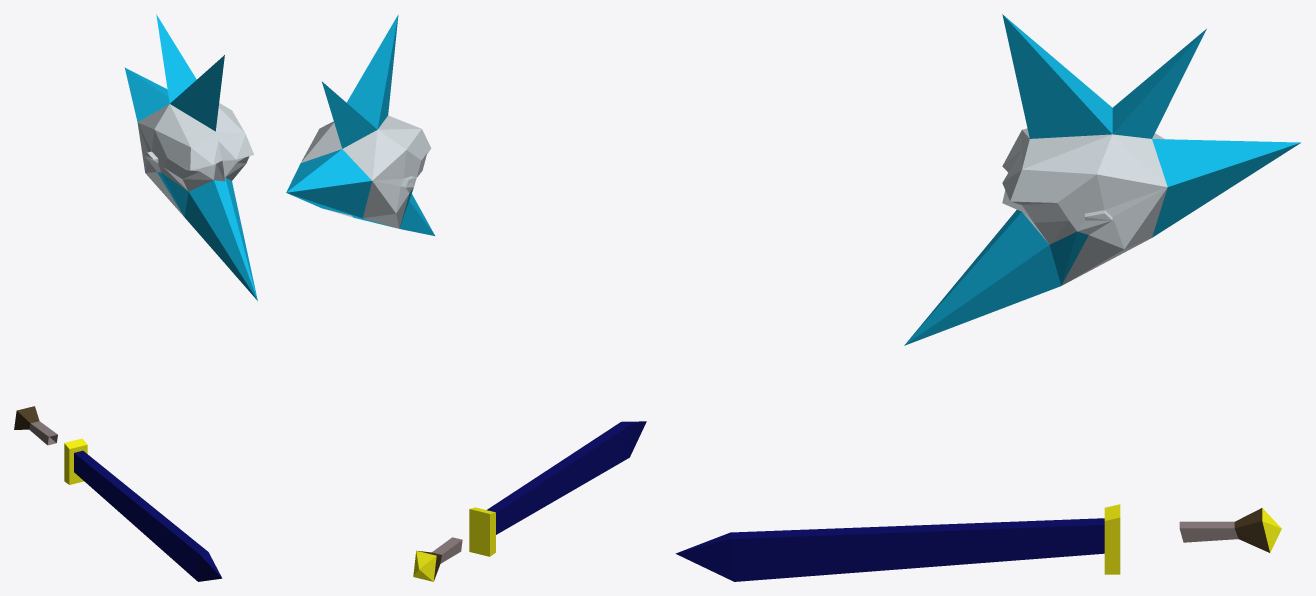
The model's file is model_2868_npc.obj.
The picture shows the model from 3 angles, left to right: view 1: azimuth 30°, elevation 25°; view 2: azimuth 150°, elevation 25°; view 3: azimuth 270°, elevation 25°; orthographic projection. The views are drawn at different scales.
Visible parts, largest first — view 1: 2868; view 2: 2868; view 3: 2868.
Part boxes in pixels (bbox=[...]): 2868: bbox=[14, 14, 257, 581]; 2868: bbox=[286, 14, 646, 581]; 2868: bbox=[675, 14, 1300, 581].
Size of the model in its own units: 72 by 181 by 159.
